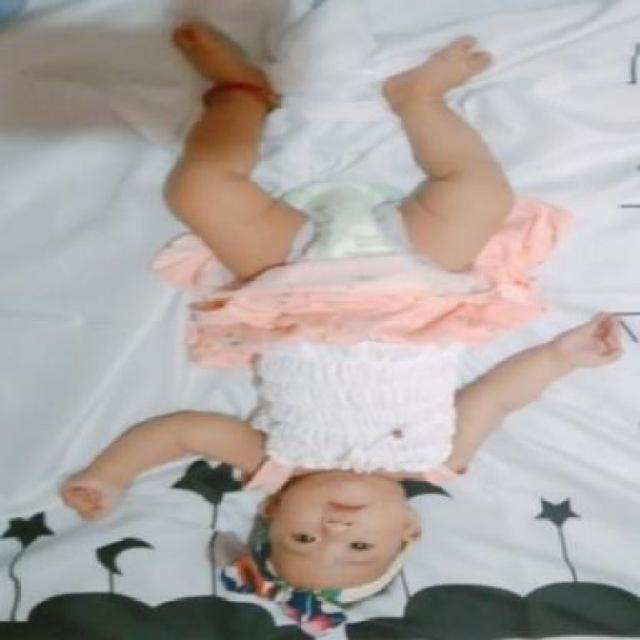child: (56, 26, 622, 609)
